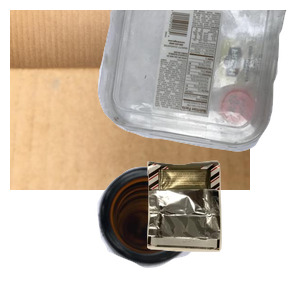cardboard: (10, 10, 250, 190)
glass: (95, 164, 286, 300)
plastic: (95, 10, 300, 154)
trash: (144, 158, 300, 300)
